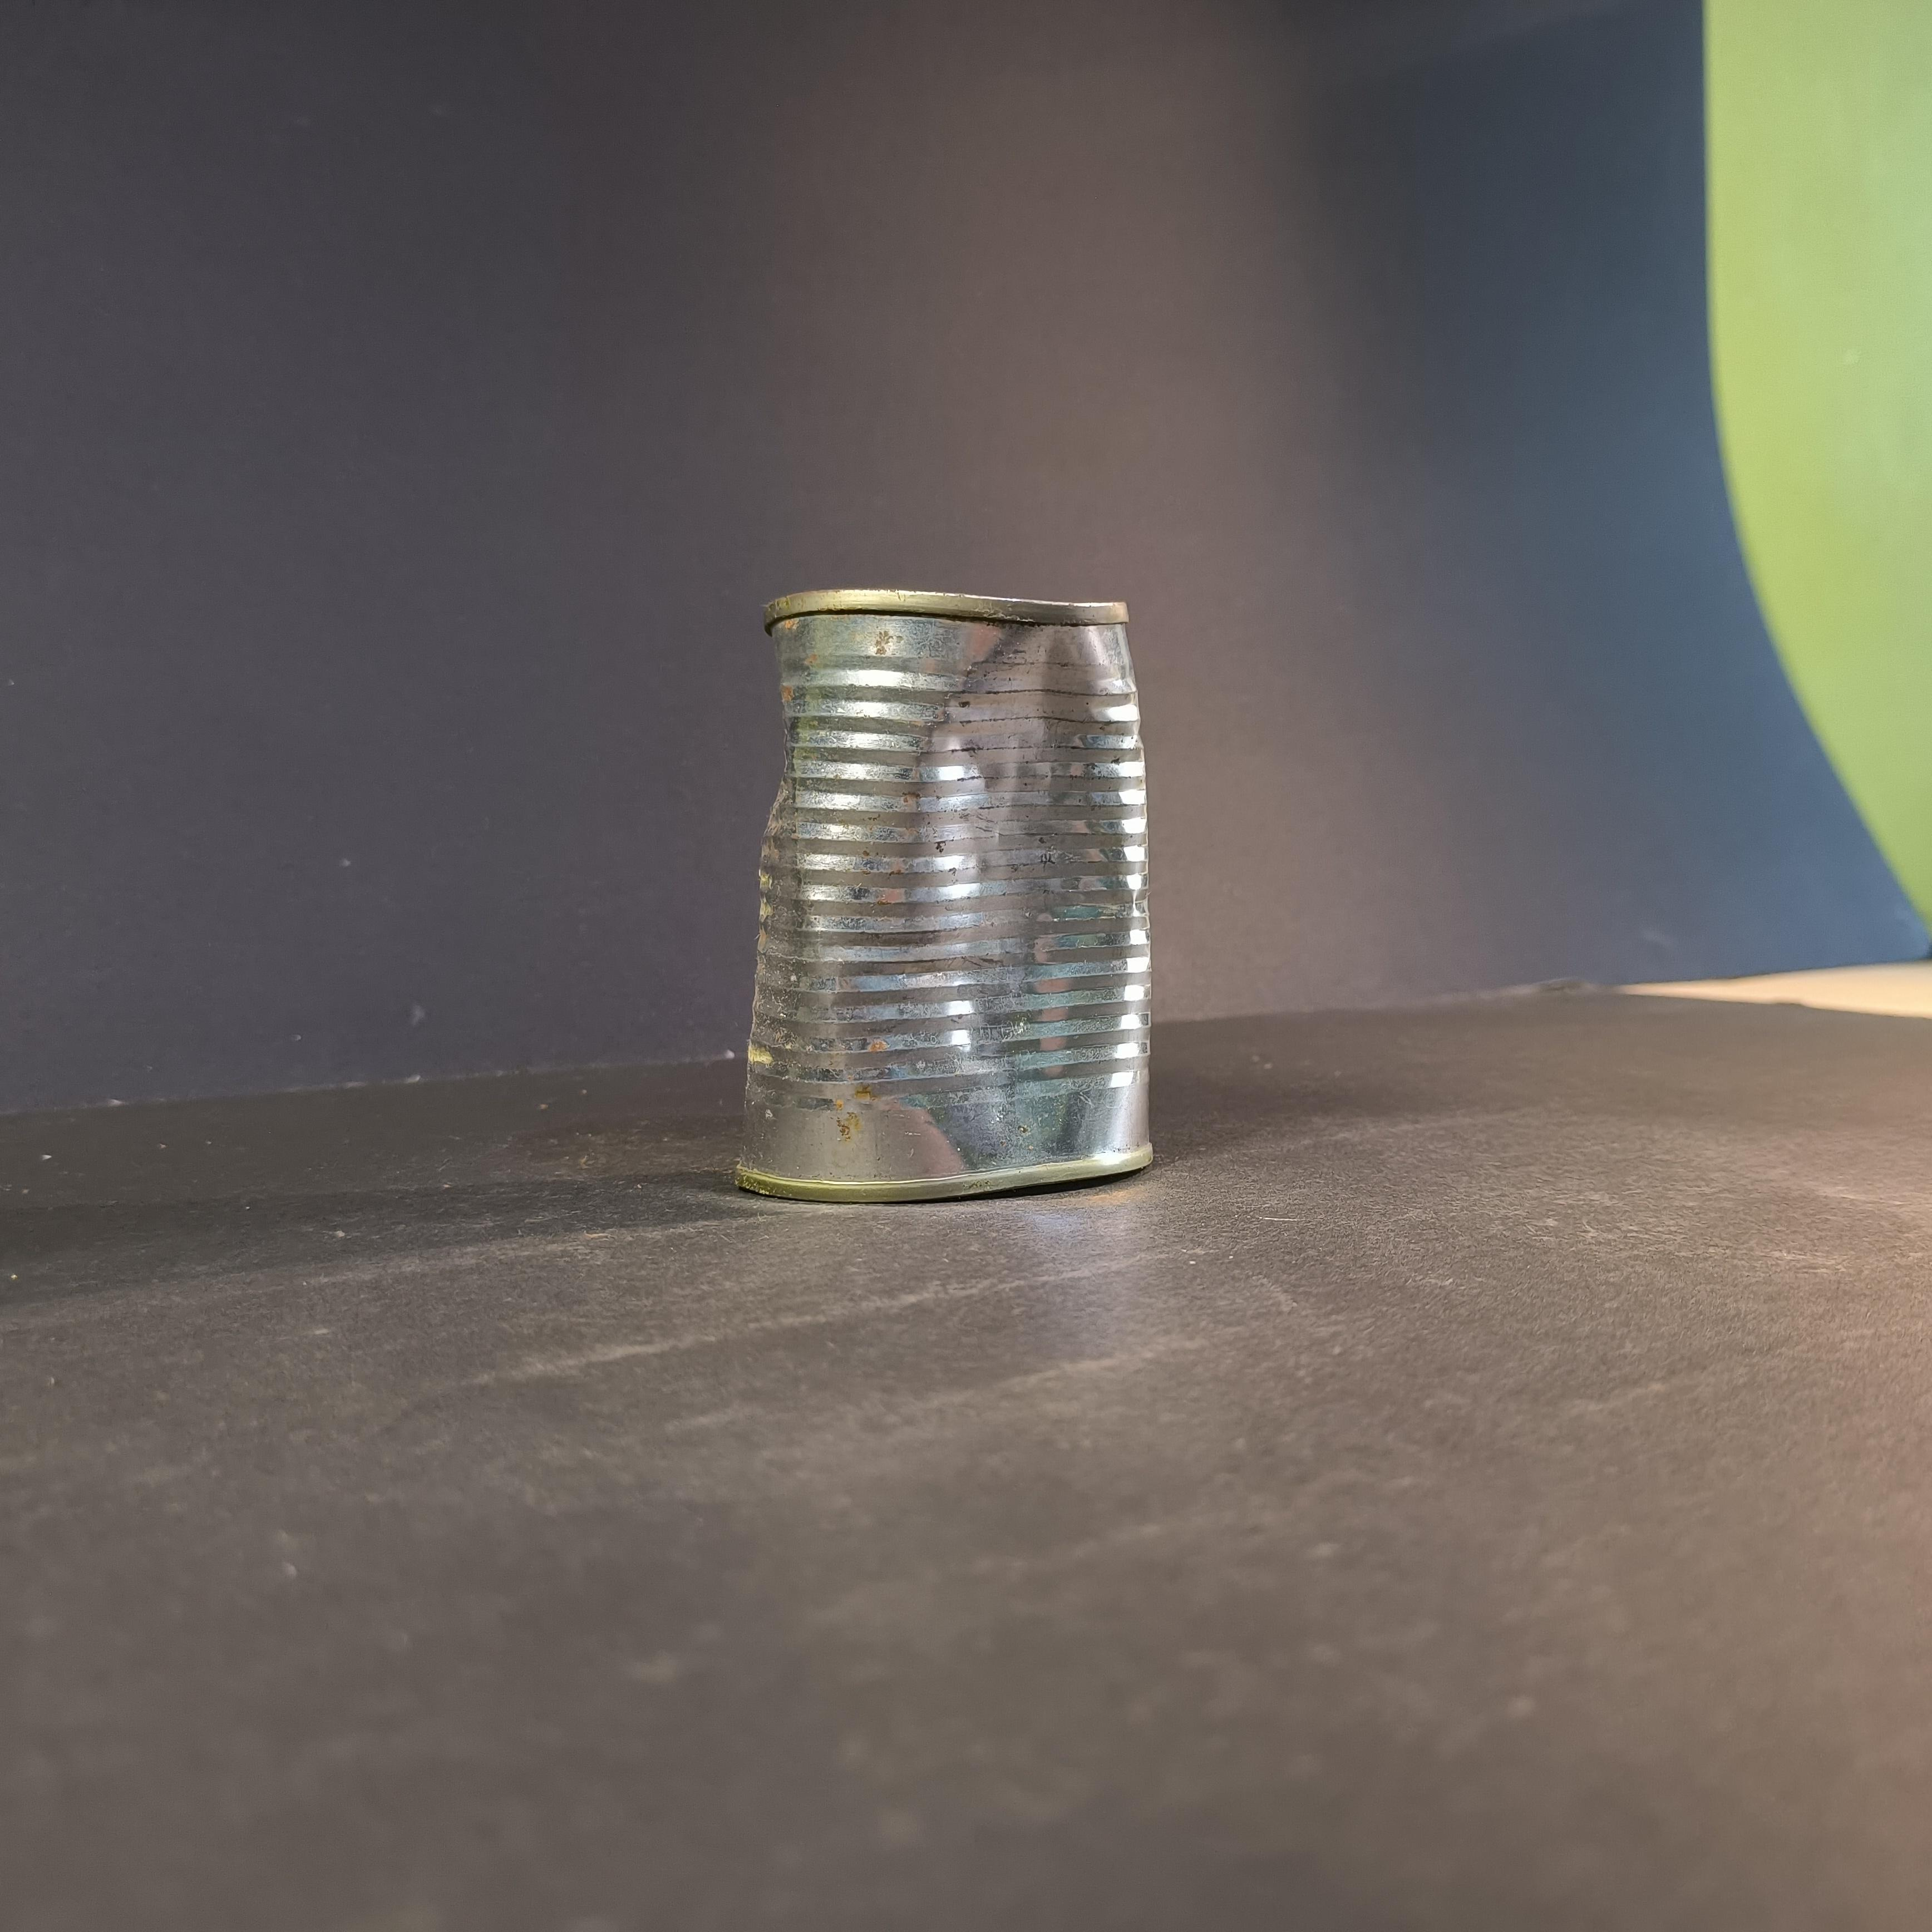Dented: (709, 570, 1182, 1233)
